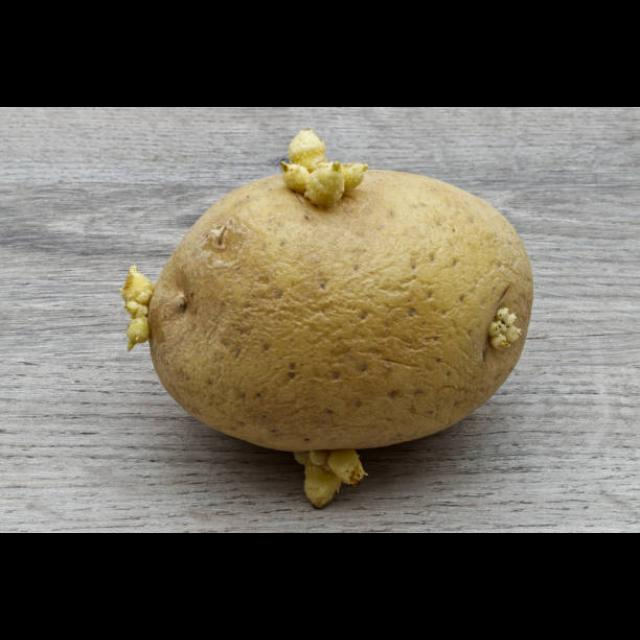Sprouted potato: (98, 148, 540, 474)
